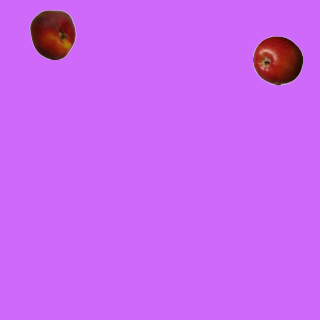Apple Braeburn: (252, 35, 302, 85)
Nectarine Flat: (27, 9, 77, 59)
